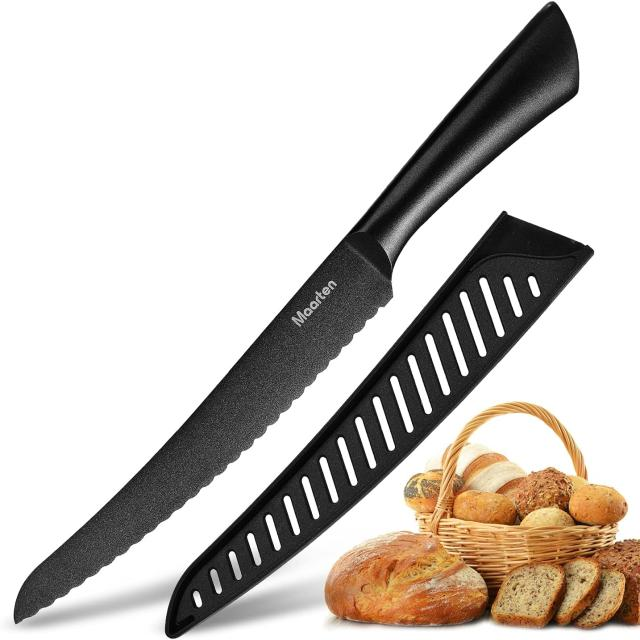Knife: (14, 3, 578, 623)
